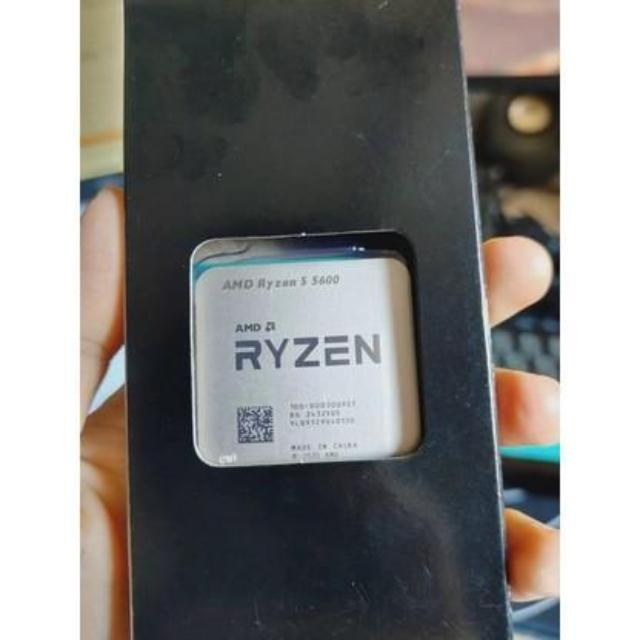CPU: (194, 253, 431, 470)
